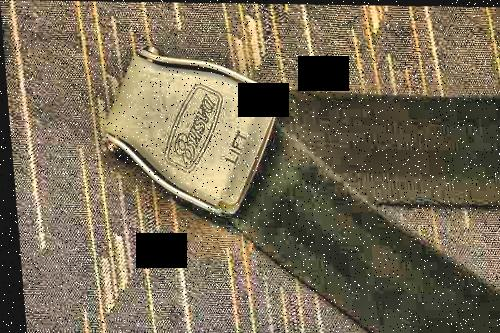seatbelt: (77, 62, 490, 318)
